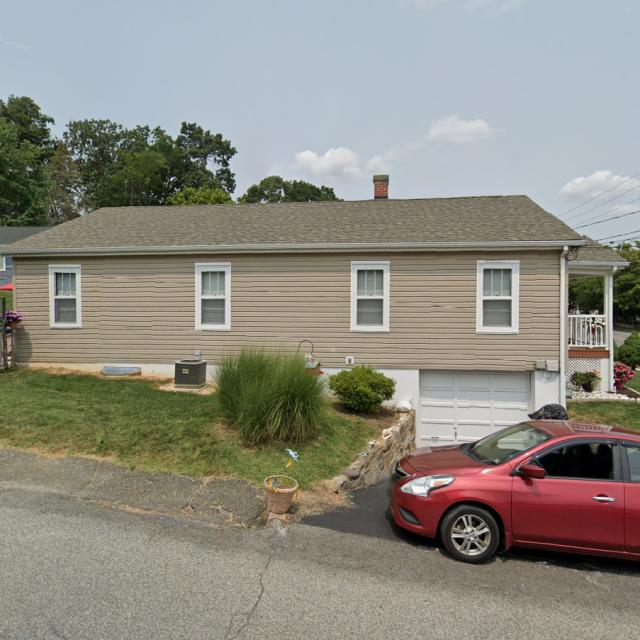House: (1, 174, 631, 453)
